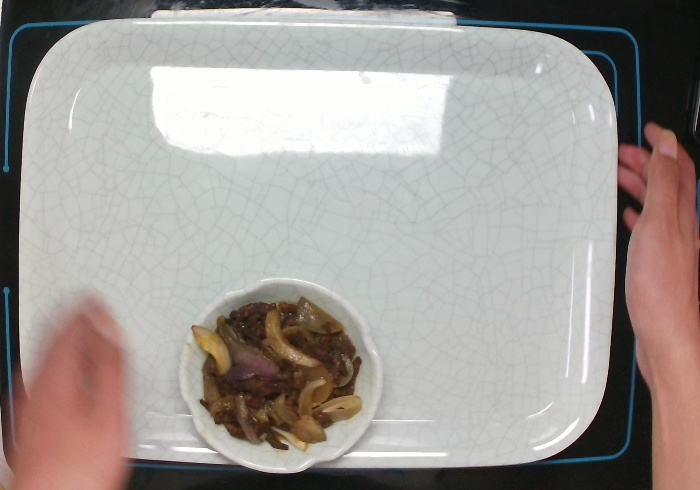JYsf-Ao_Yuan_Wan: (176, 275, 385, 475)
